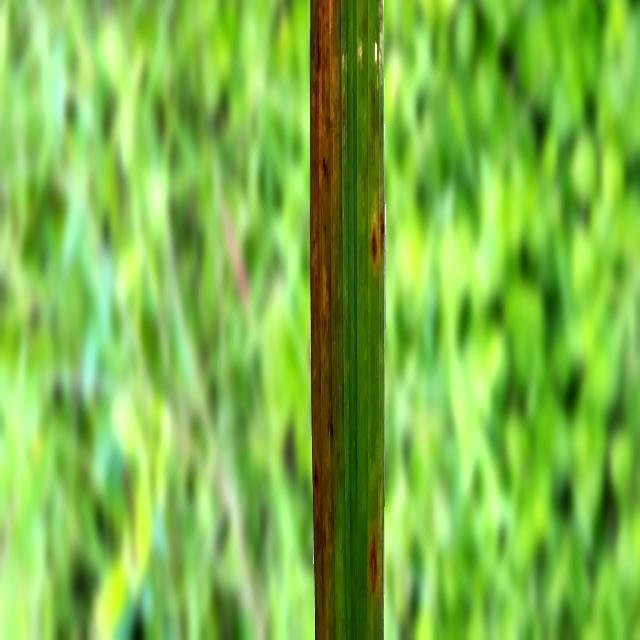BLB: (310, 0, 346, 638)
